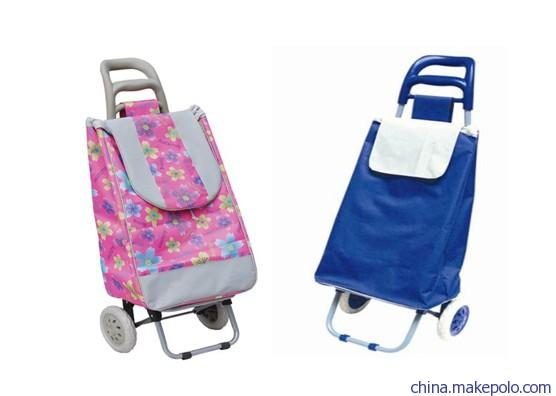luggage: (85, 54, 260, 361), (314, 53, 481, 354)
